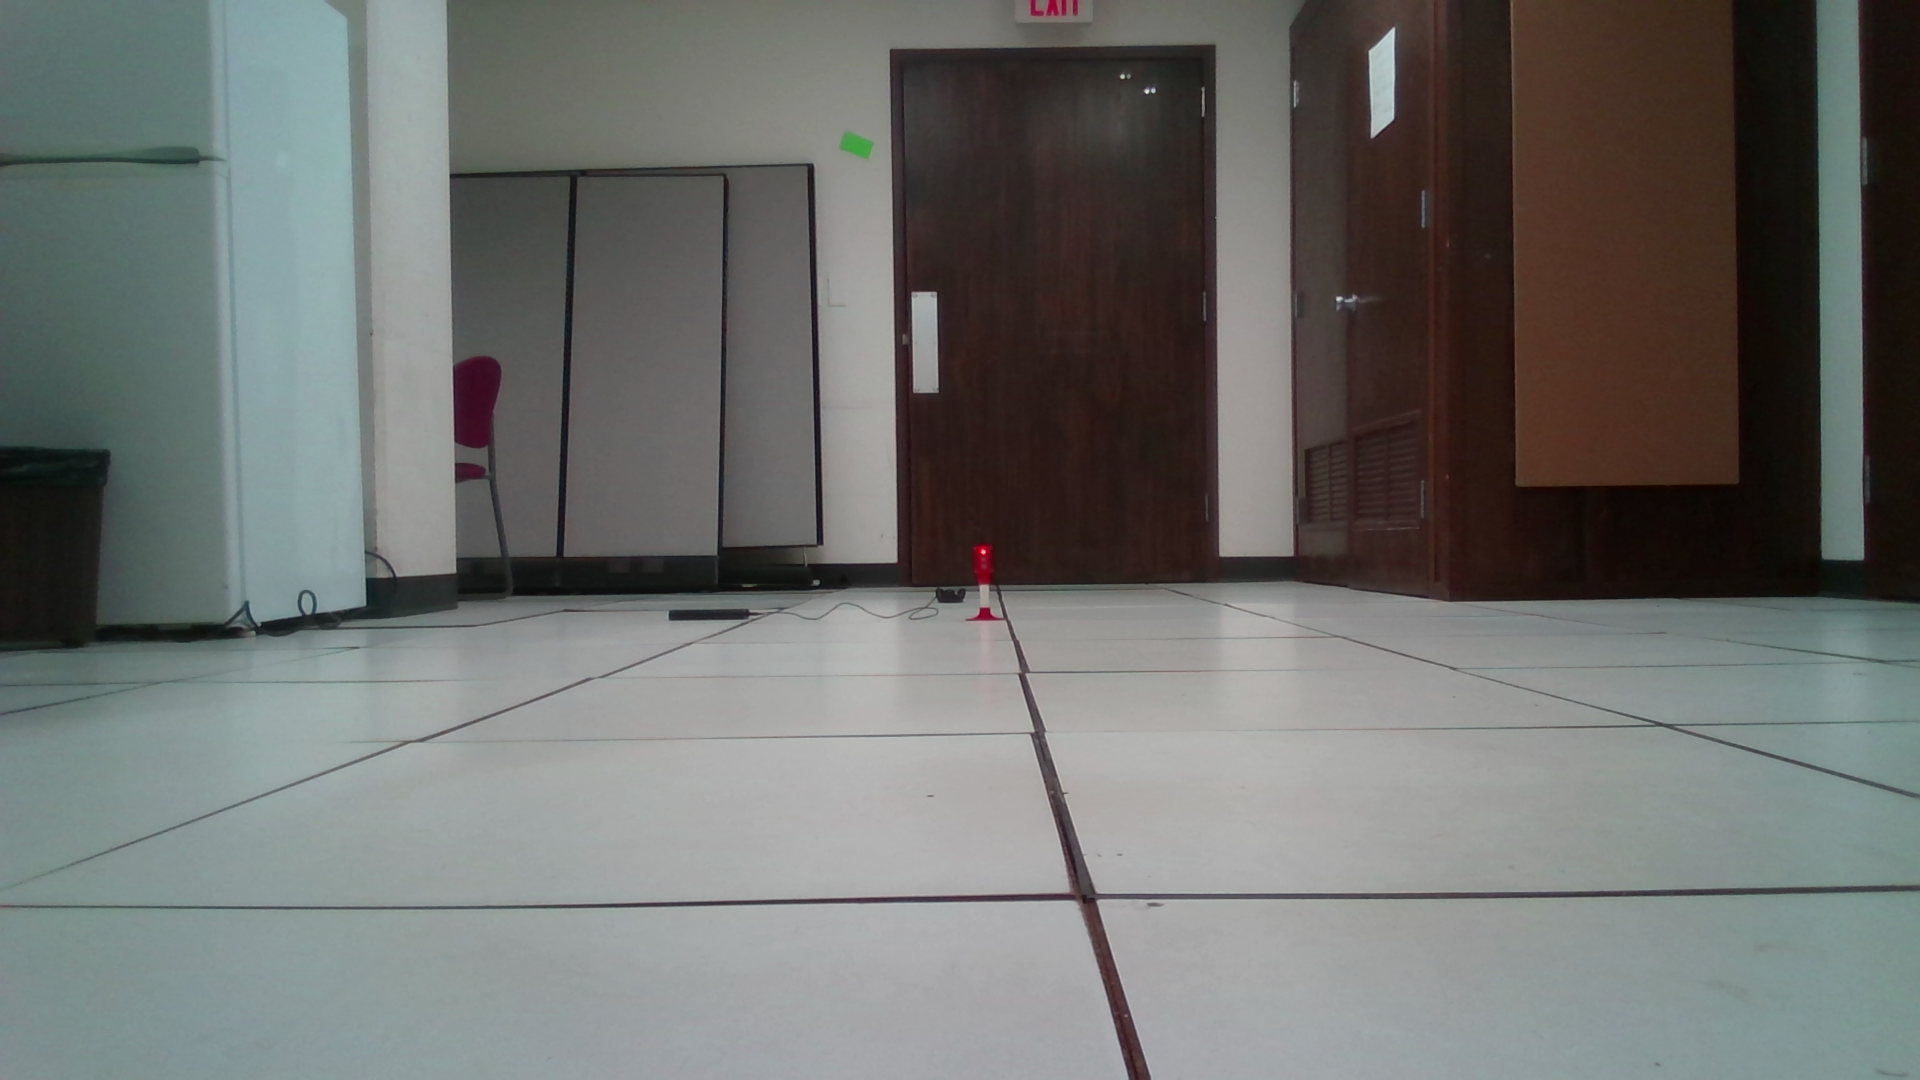stoplight: (973, 543, 996, 582)
